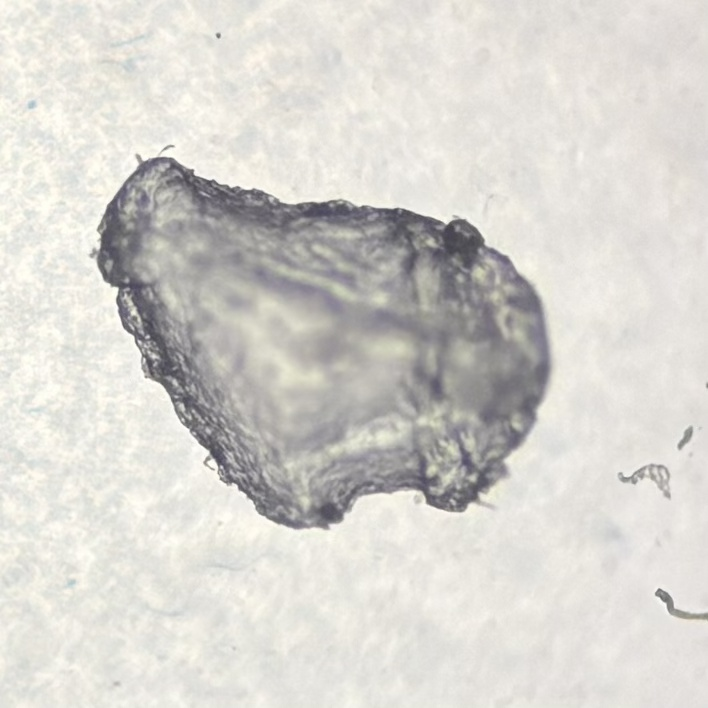microplastic: (89, 146, 548, 529), (617, 465, 670, 500), (655, 589, 708, 620), (677, 426, 693, 449)
